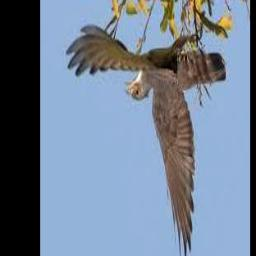Cuckoo: (66, 28, 226, 256)
